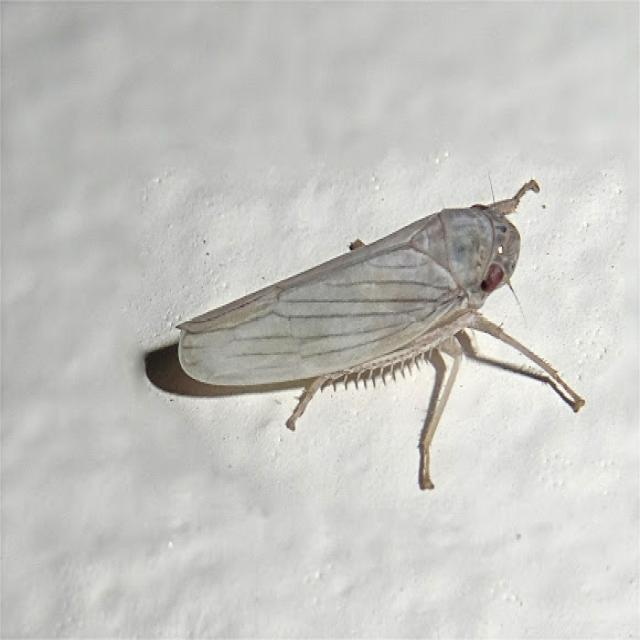Yechan: (156, 171, 570, 448)
